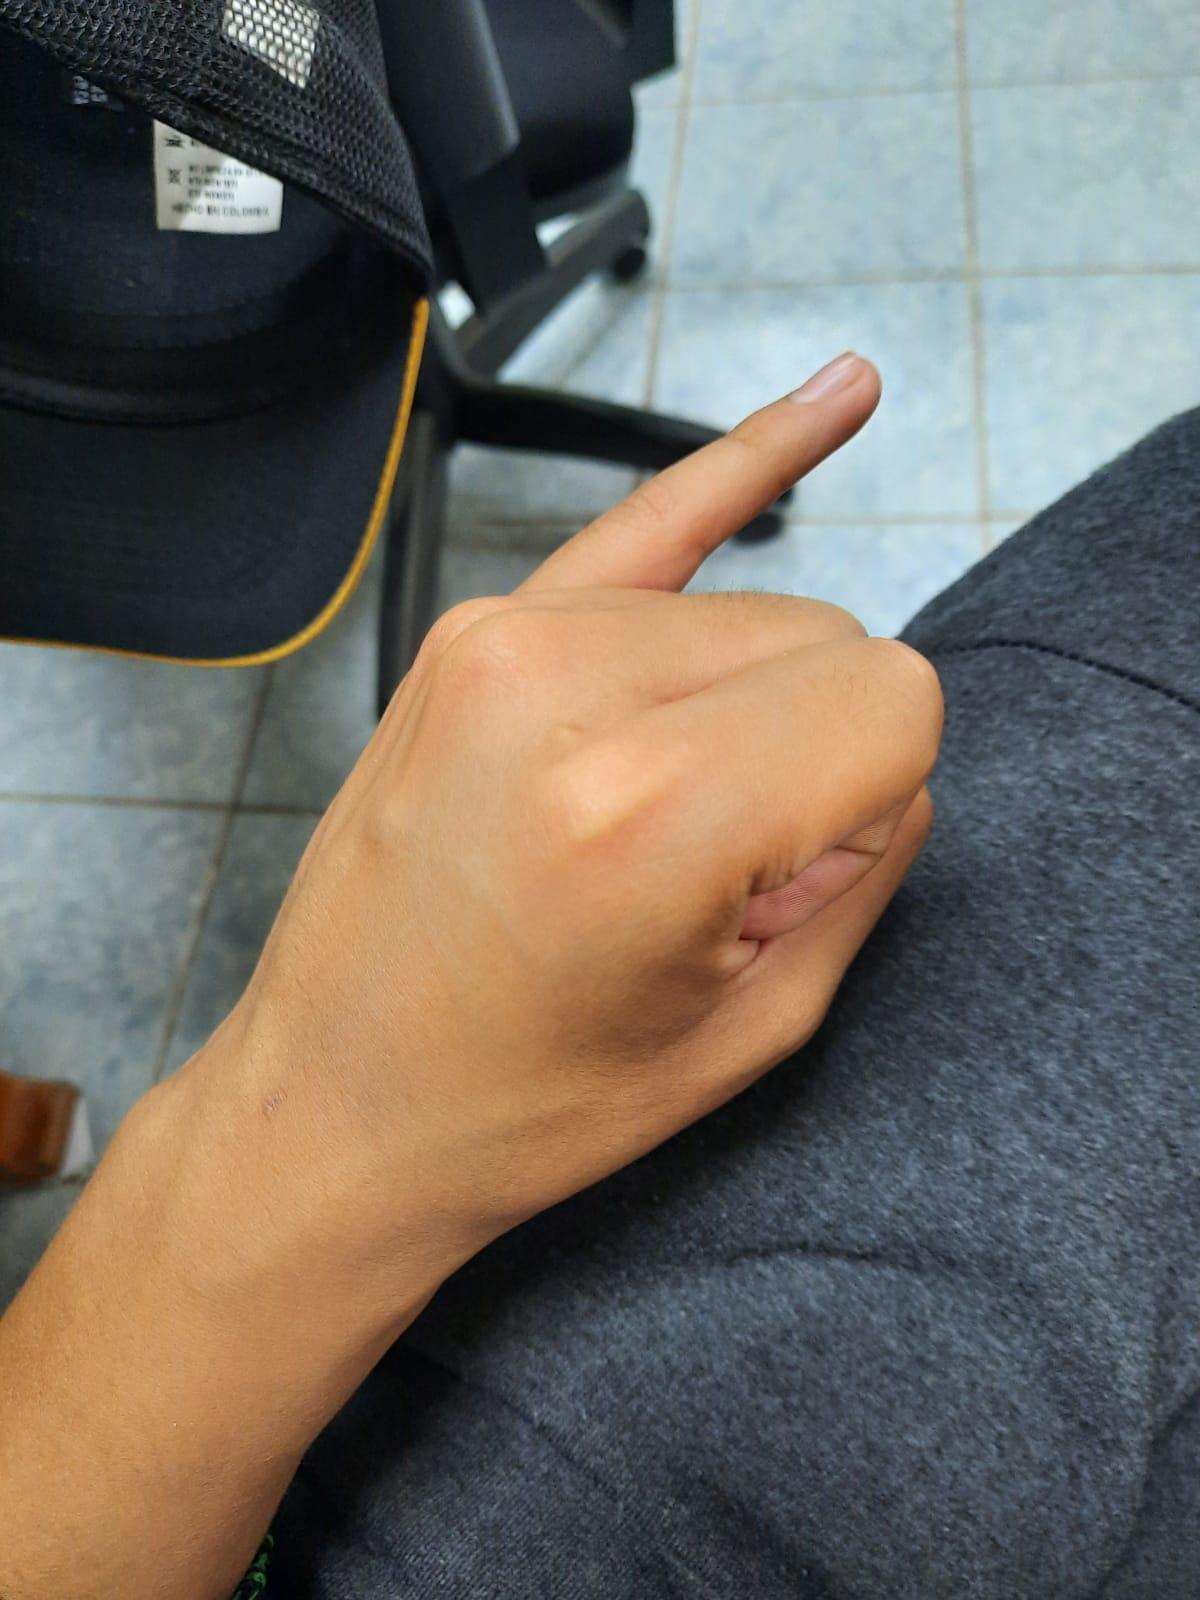Z: (197, 300, 983, 1383)
